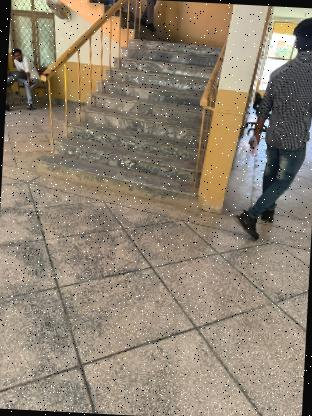person: (237, 12, 312, 249)
stair: (61, 26, 214, 210)
